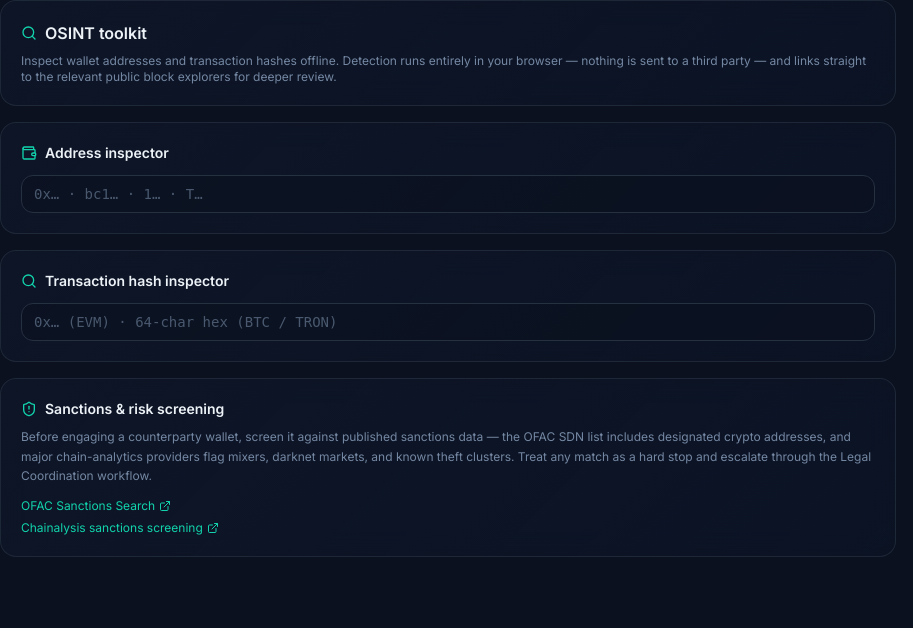
OSINT toolkit portal section › flags an unrecognized address
This screenshot has width=913, height=628.
Type "definitely-not-valid" into the field with test id "osint-address-input".
click(448, 194); type("definitely-not-valid")  # box 21,175 -> 875,213
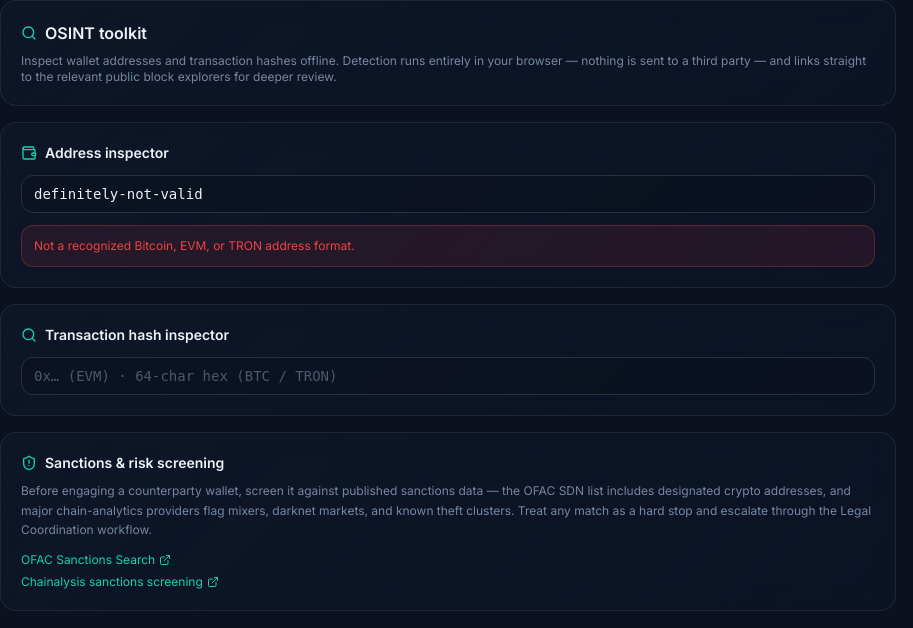
Check: the element with test id "osint-address-result" shows "Not a recognized", box 34,238 -> 355,253
